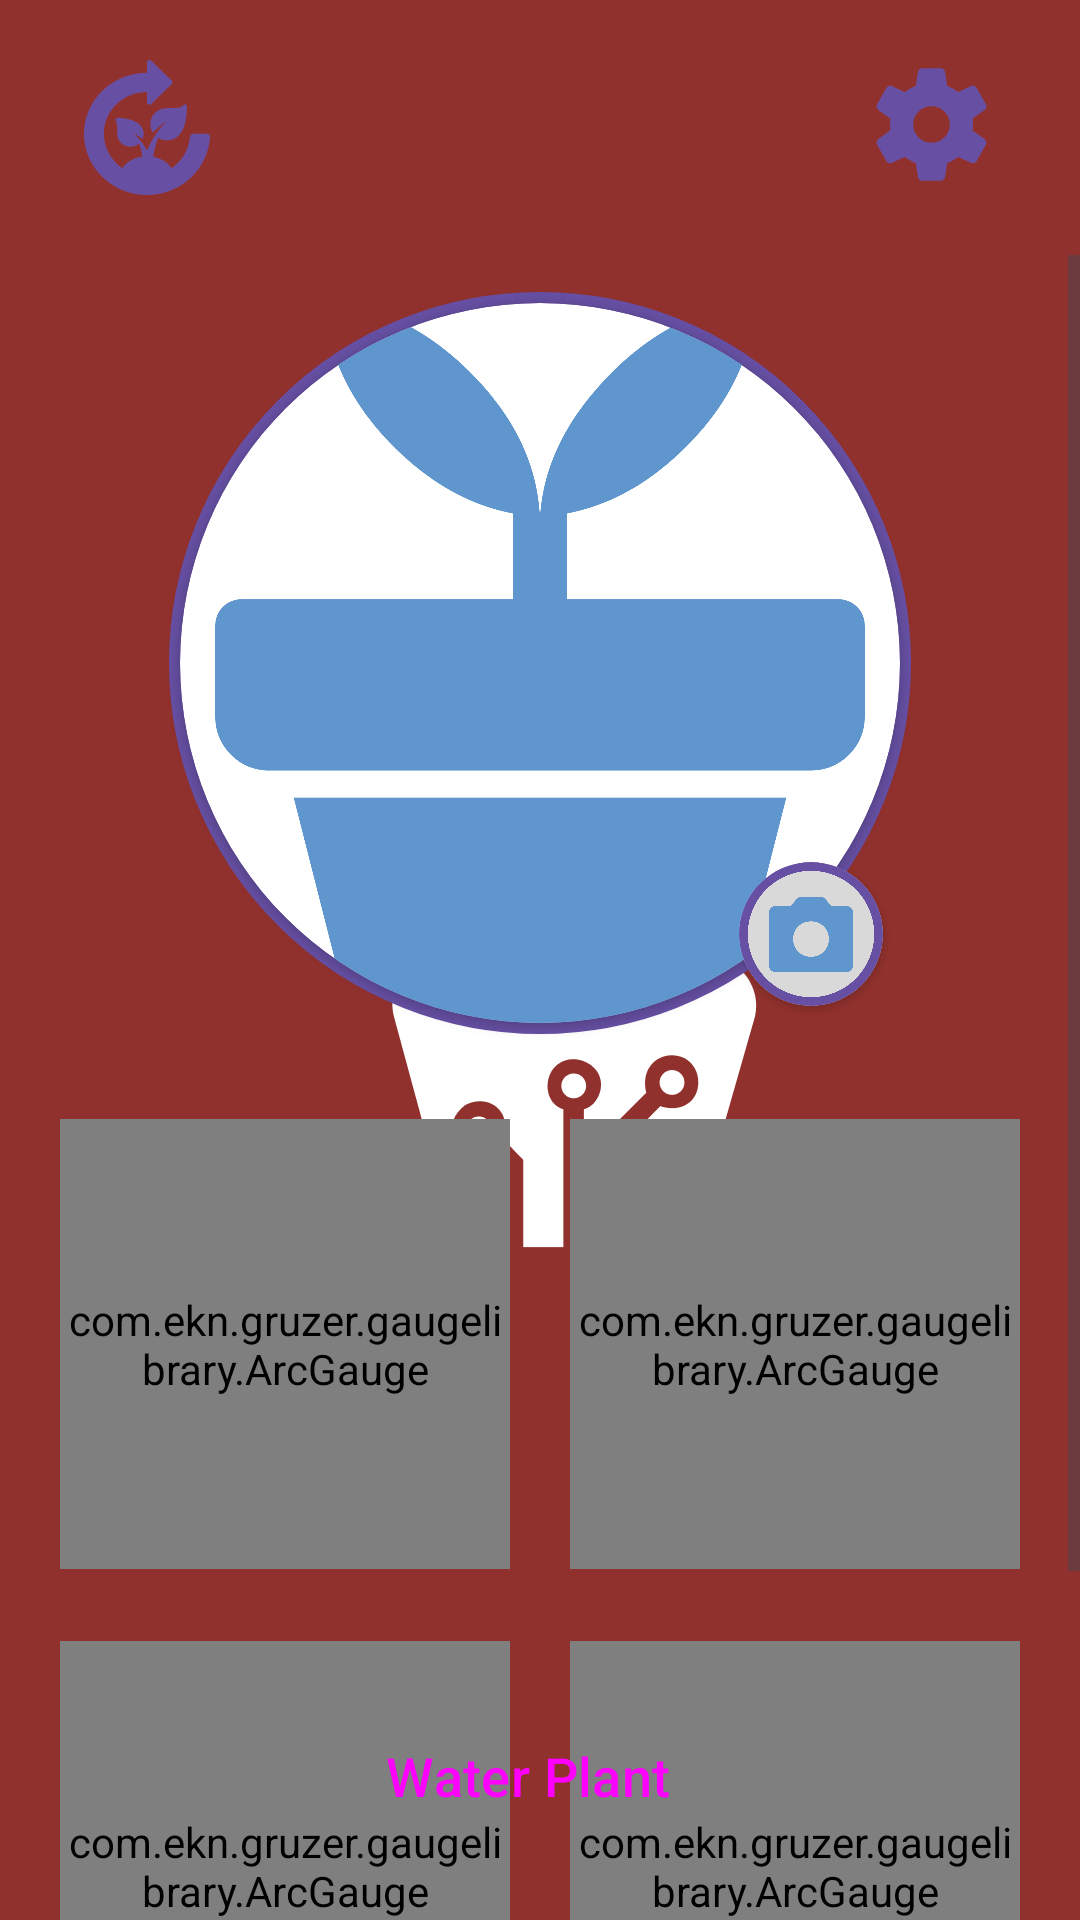

Point at icon controls on the screen. Image size 1080×1920, points as (x,y).
settings: (931,124)
